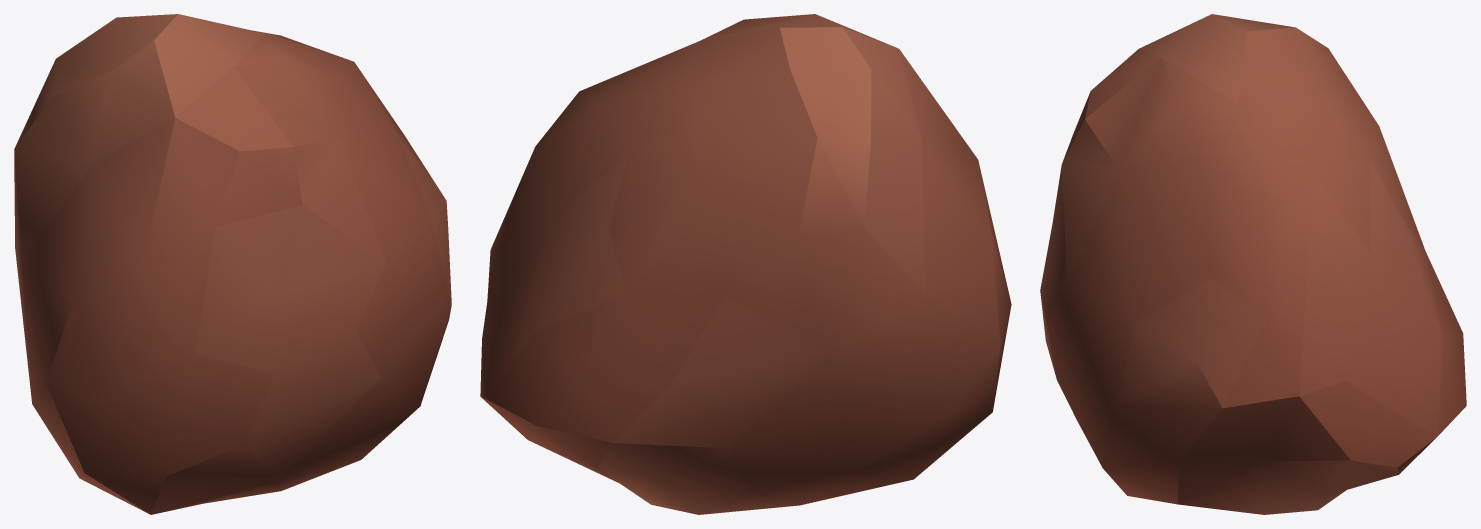
File: Rock_3_H_Color2.fbx
The picture shows the model from 3 angles, left to right: view 1: azimuth 30°, elevation 25°; view 2: azimuth 150°, elevation 25°; view 3: azimuth 270°, elevation 25°; orthographic projection. The views are drawn at different scales.
Parts seen in each view (by area): view 1: Rock_3_H_Color2; view 2: Rock_3_H_Color2; view 3: Rock_3_H_Color2.
Part boxes in pixels (x1=…): Rock_3_H_Color2: x1=14, y1=14, x2=451, y2=514; Rock_3_H_Color2: x1=480, y1=14, x2=1011, y2=514; Rock_3_H_Color2: x1=1040, y1=14, x2=1466, y2=514.
Size of the model in its own units: 1.95 by 2.06 by 1.76.
